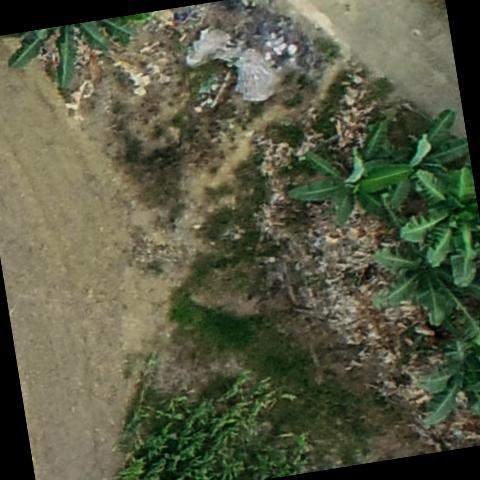Banana-plant: (283, 138, 417, 236), (390, 160, 480, 291), (364, 106, 472, 214), (371, 227, 480, 333), (406, 343, 480, 436)
